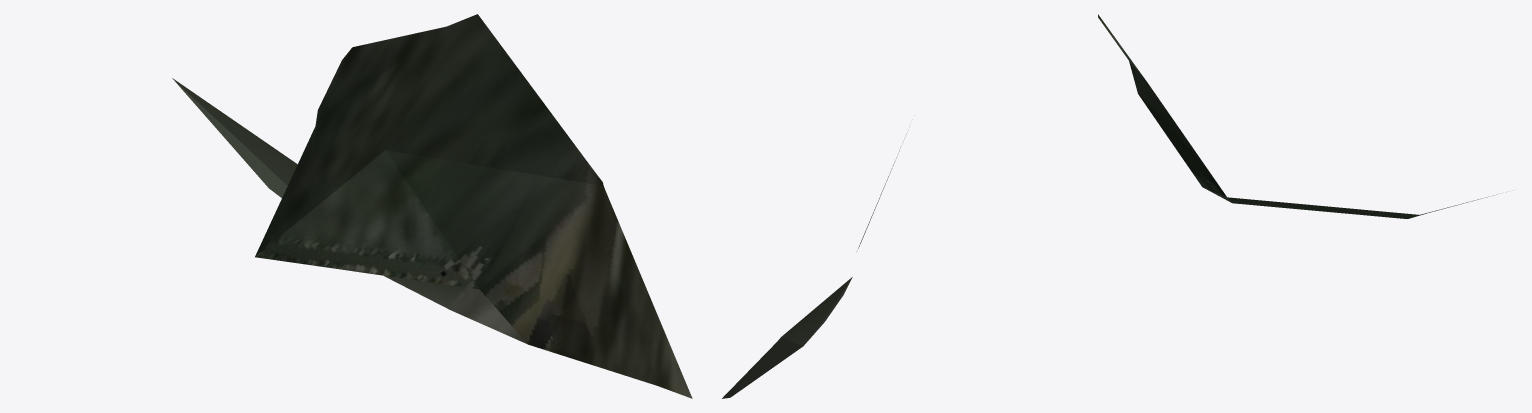
The picture shows the model from 3 angles, left to right: view 1: azimuth 30°, elevation 25°; view 2: azimuth 150°, elevation 25°; view 3: azimuth 270°, elevation 25°; orthographic projection. The views are drawn at different scales.
Bounding box in the file's own units: 1.82 × 2.17 × 2.95.
Materials: 2 (2 with a texture image).
